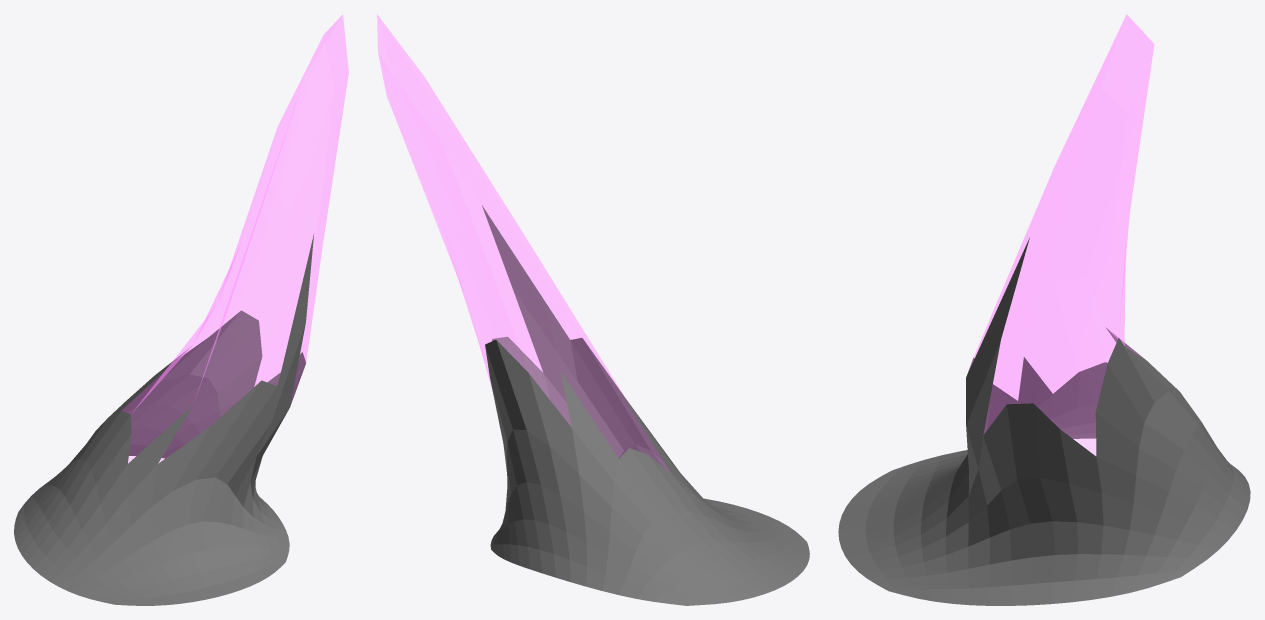
Rendered from CaveThing1.fbx.
3 views of the same model, side by side, from view 1: azimuth 30°, elevation 25°; view 2: azimuth 150°, elevation 25°; view 3: azimuth 270°, elevation 25° (orthographic). The views are drawn at different scales.
Visible parts, largest first — view 1: CaveThing1; view 2: CaveThing1; view 3: CaveThing1.
Boxes of the visible parts, left/top/right/bottom form: CaveThing1: left=14, top=14, right=348, bottom=605; CaveThing1: left=377, top=14, right=809, bottom=605; CaveThing1: left=838, top=14, right=1250, bottom=605.
Bounding box in the file's own units: 270 × 350 × 192.
